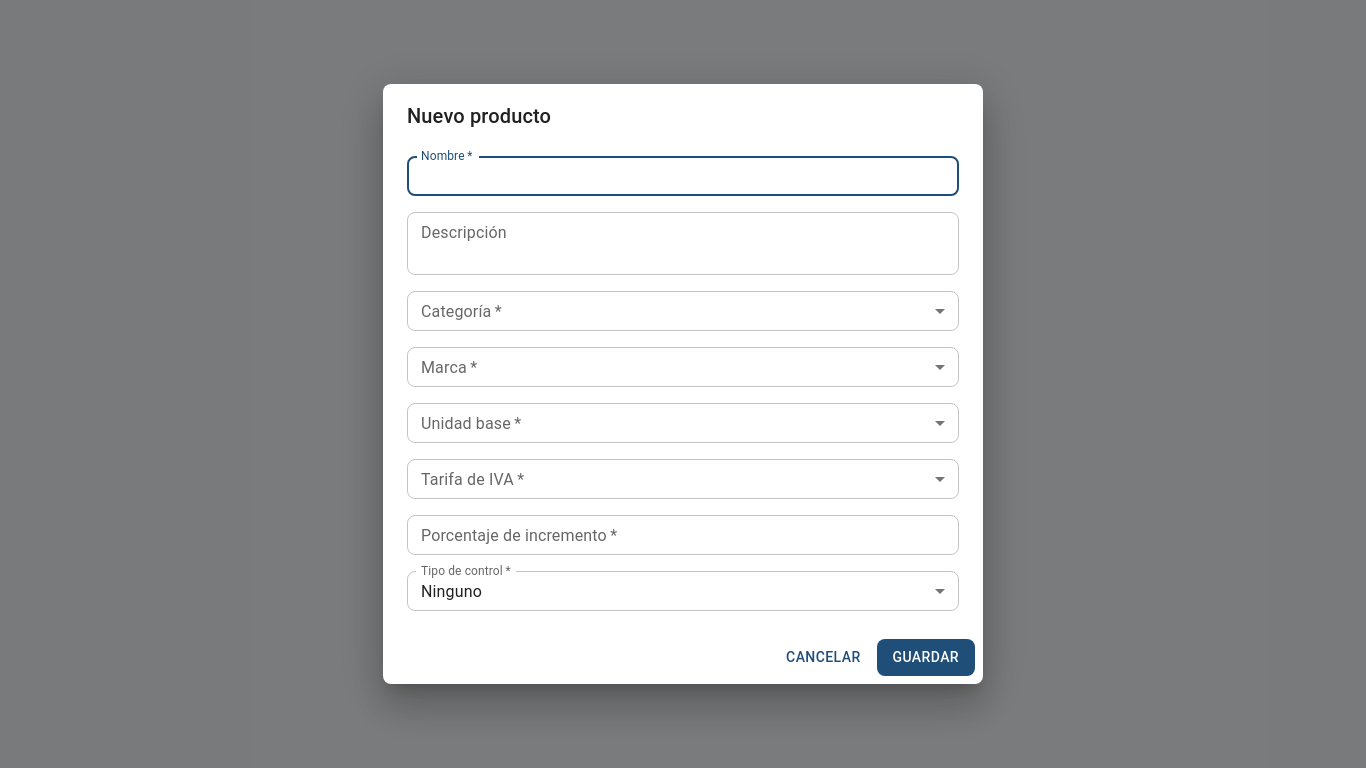
Test: ProductoFormDialog › [CA-RF-CFG-001-D1] al crear, los selectores ofrecen solo las marcas activas
Click the dropdown with test id "producto-campo-marca" at [683, 367], box [407,347,959,387]
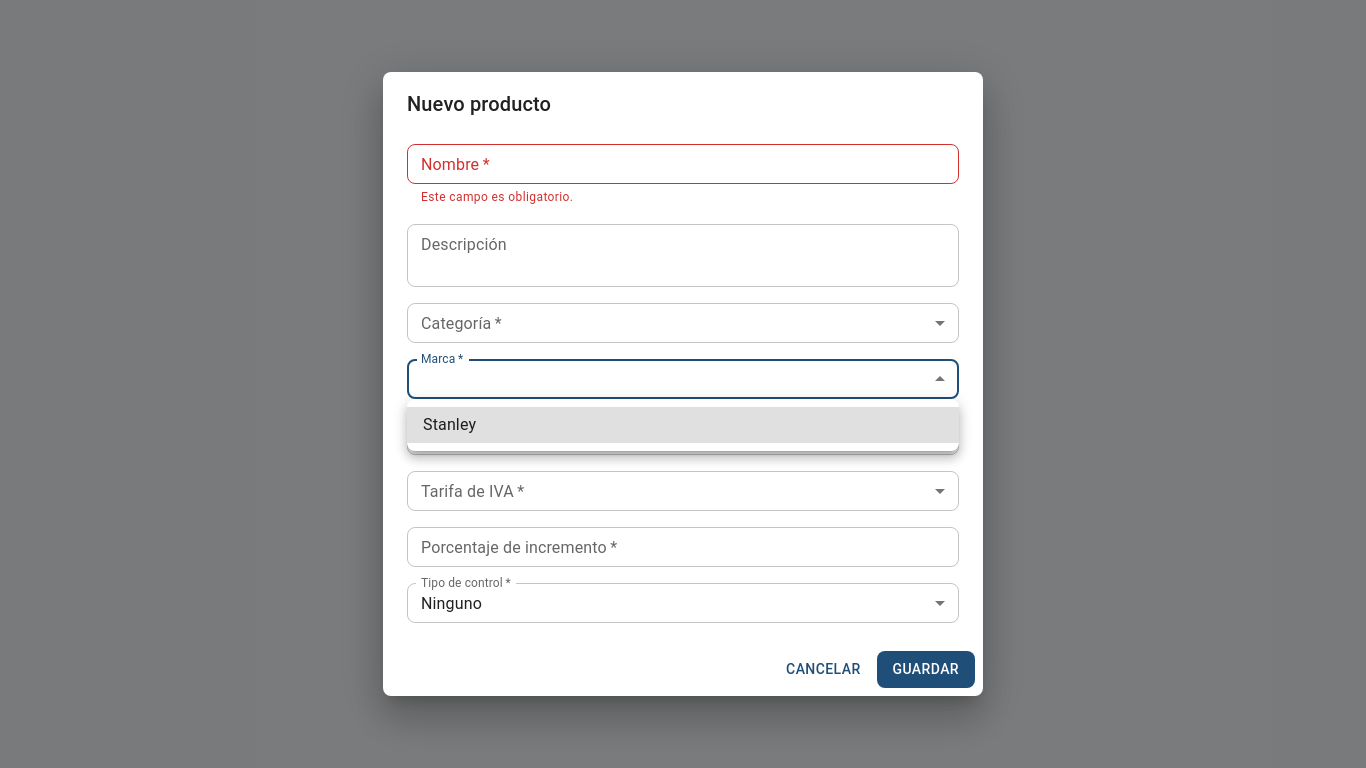
Expected: the options read "Stanley", in this order, [407,407,959,443]
